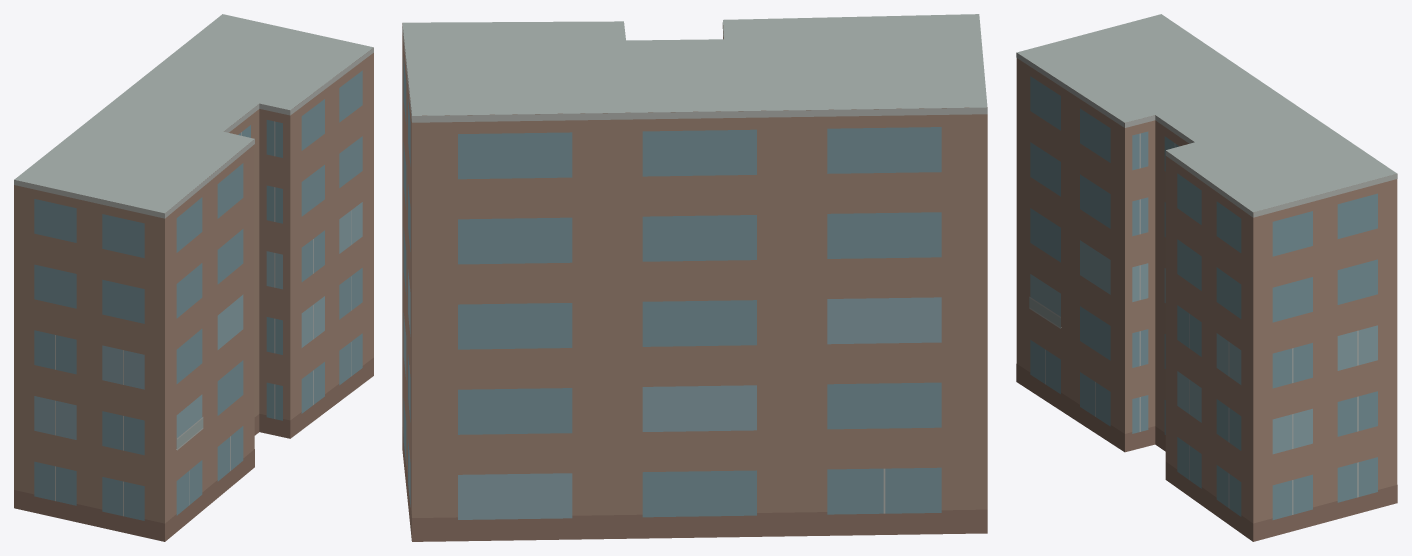
File: survey-upis-32880629.glb
3 renders of one model, left to right at view 1: azimuth 30°, elevation 25°; view 2: azimuth 150°, elevation 25°; view 3: azimuth 270°, elevation 25°, orthographic. The views are drawn at different scales.
Parts seen in each view (by area): view 1: survey-upis-32880629.tmp; view 2: survey-upis-32880629.tmp; view 3: survey-upis-32880629.tmp.
Part boxes in pixels (<box>): survey-upis-32880629.tmp: <box>14,14,373,541</box>; survey-upis-32880629.tmp: <box>402,14,987,541</box>; survey-upis-32880629.tmp: <box>1016,14,1397,541</box>.
Bounding box in the file's own units: 19.71 × 15.25 × 15.99.
